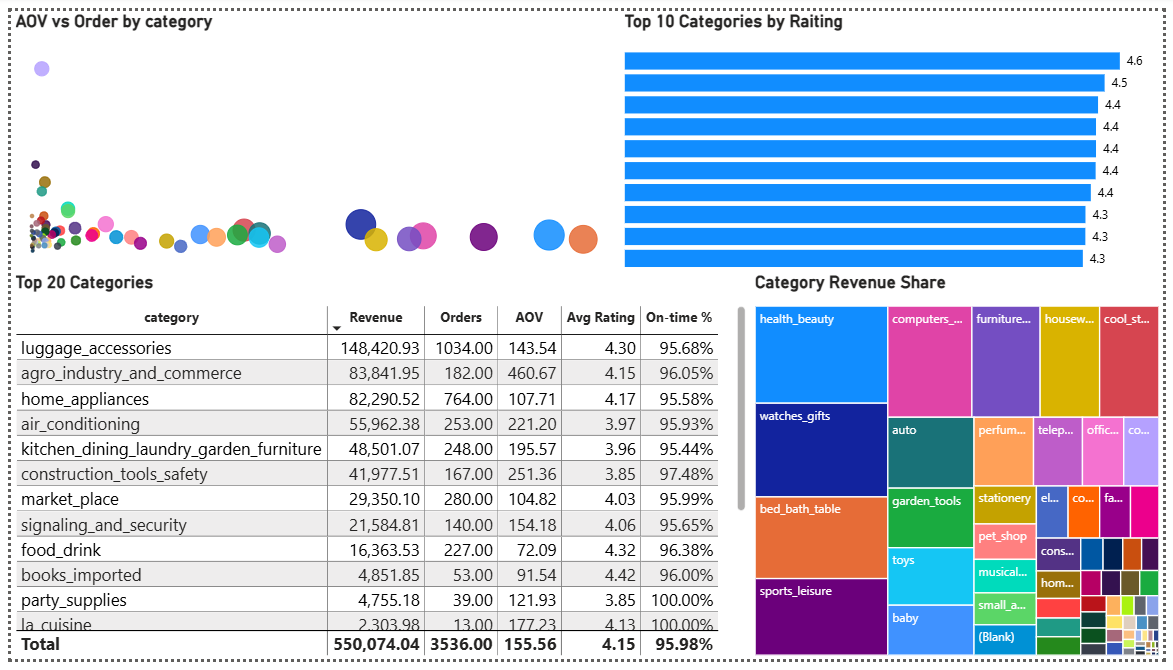

This screenshot's page, from the dashboard's own definition file:
{"tool":"powerbi","page":{"name":"Category & Products","canvas":[1280,720],"ordinal":2},"visuals":[{"type":"treemap","title":"Category Revenue Share","fields":{"Values":["public bi_fact_sales.Revenue"],"Group":["public bi_fact_sales.category"]},"box":[820.9,289.8,458.2,430.7],"z":0},{"type":"scatterChart","title":"AOV vs Order by category","fields":{"X":["public bi_fact_sales.Orders"],"Y":["public bi_fact_sales.AOV"],"Series":["public bi_fact_sales.category"],"Size":["public bi_fact_sales.Revenue"]},"box":[0,0,678.5,289.8],"z":1000},{"type":"barChart","title":"Top 10 Categories by Raiting","fields":{"Category":["public bi_fact_sales.category"],"Y":["public bi_fact_sales.Avg Rating"]},"box":[676.8,0,602.4,289.8],"z":2000},{"type":"tableEx","title":"Top 20 Categories","fields":{"Values":["public bi_fact_sales.category","public bi_fact_sales.Revenue","public bi_fact_sales.Orders","public bi_fact_sales.AOV","public bi_fact_sales.Avg Rating","public bi_fact_sales.On-time %","select"]},"box":[0,289.8,820.9,430.7],"z":3000}]}

Visuals, with their boxes in screenshot pixels (x1, y1, x2, y2), scaled from the page's 1280x720 canvas onto the 1173x670 screenshot:
"Category Revenue Share" treemap: (left=752, top=270, right=1172, bottom=669)
"AOV vs Order by category" scatterChart: (left=0, top=0, right=622, bottom=270)
"Top 10 Categories by Raiting" barChart: (left=620, top=0, right=1172, bottom=270)
"Top 20 Categories" tableEx: (left=0, top=270, right=752, bottom=669)
